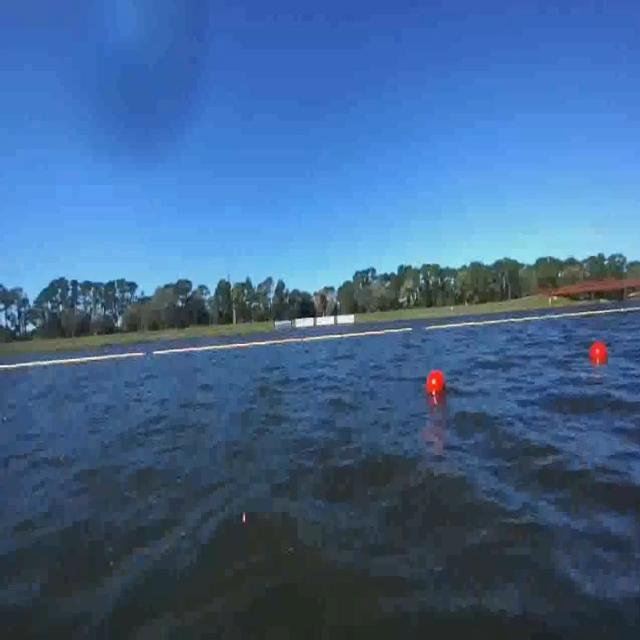red-buoy: (587, 342, 606, 366), (427, 369, 444, 394)
